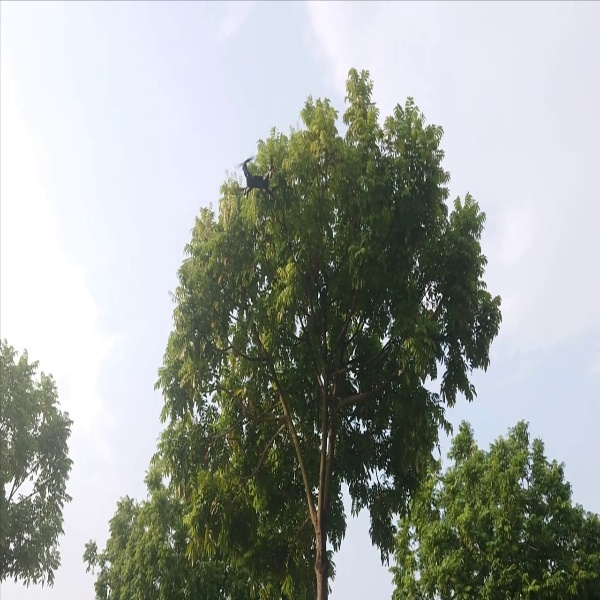drone: (234, 151, 285, 214)
